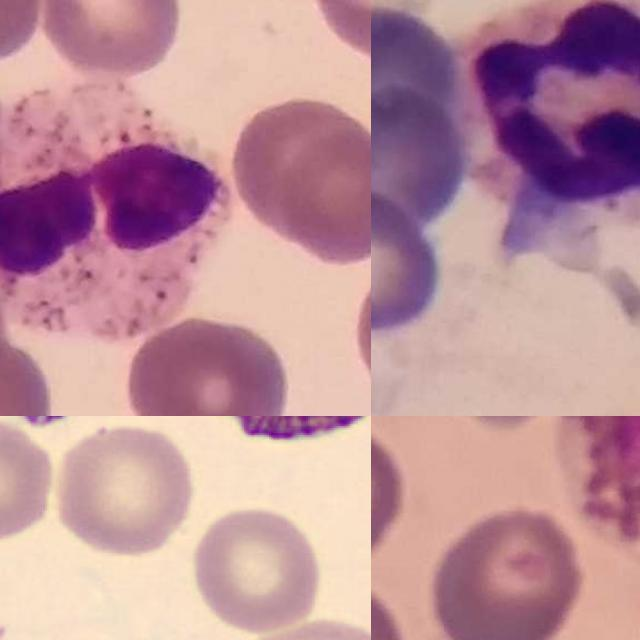Lymphocyte: (558, 416, 640, 566)
Neutrophil: (0, 79, 224, 343), (461, 0, 640, 217)
Platelets: (13, 416, 79, 431)
RBC: (49, 419, 200, 558), (187, 500, 326, 636), (0, 416, 61, 549), (235, 615, 371, 640)
